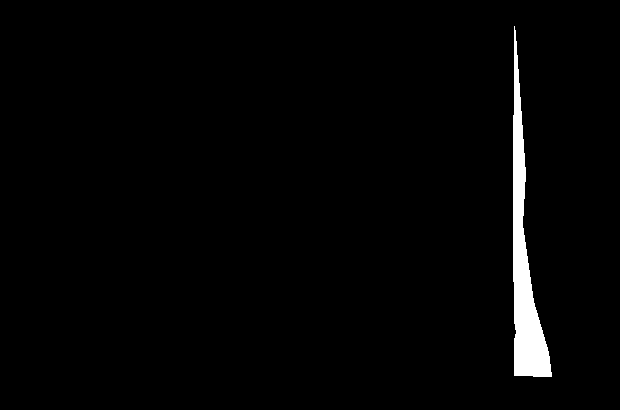type5: (509, 22, 555, 378)
